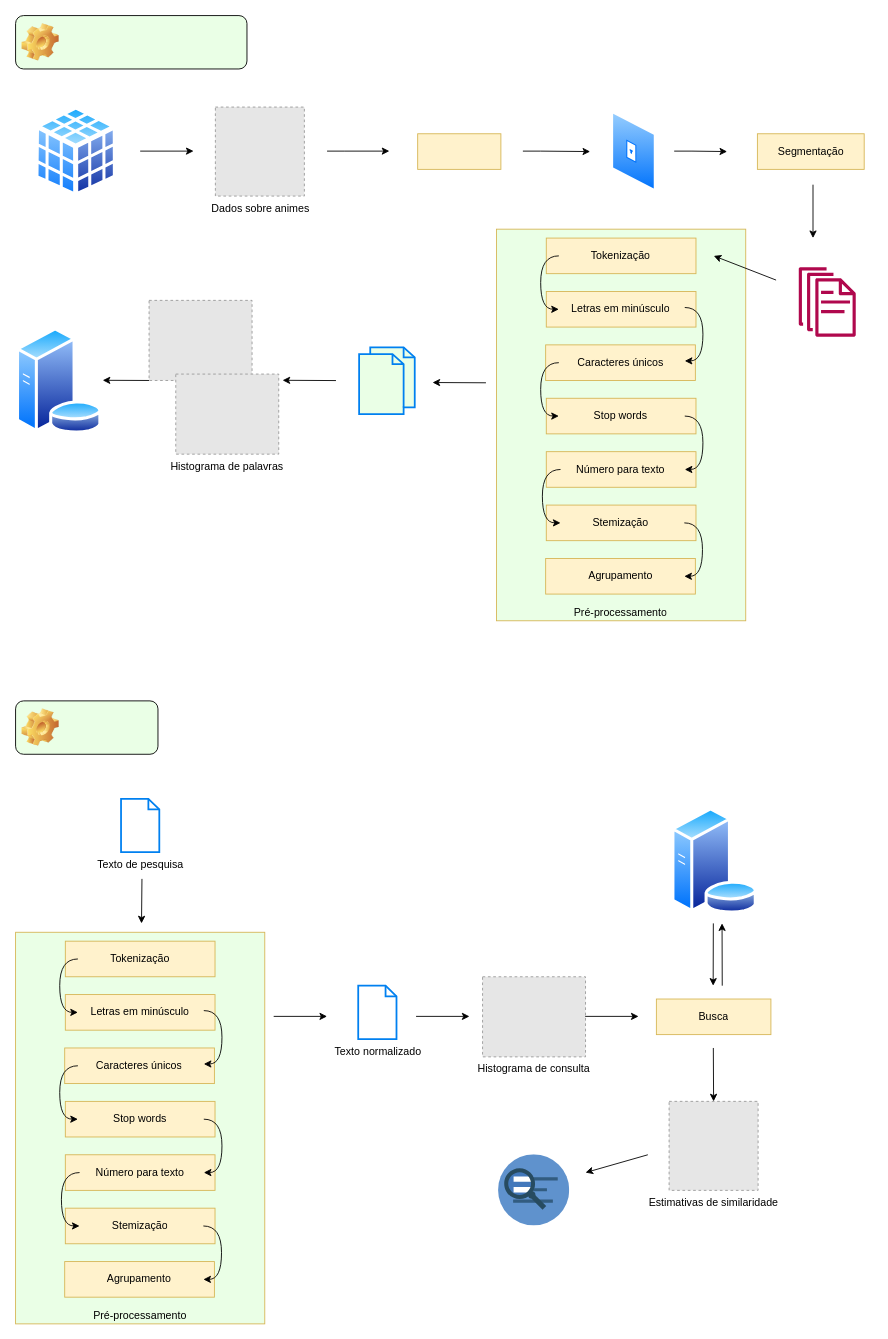
Some shapes in this 888 by 1339 pixel diagram are drawn without their labels. Grey dashed boxes stand in for pictures. The box of each missing label's shape, as (x1, y1, x2, y2) in pixels:
Consulta por texto: (15, 700, 158, 754)
Dados não duplicados: (611, 111, 655, 191)
Extração: (417, 133, 501, 169)
K melhores resultados: (498, 1154, 569, 1226)
MyAnimeList dataset: (33, 104, 118, 198)
Processamento do dataset de animes: (15, 15, 247, 69)
Textos de sinopses: (798, 267, 855, 336)
Textos normalizados: (358, 346, 415, 415)
